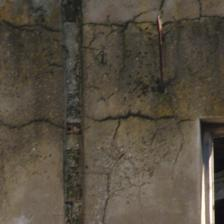Crack: (0, 79, 74, 142), (40, 18, 152, 50), (114, 44, 174, 80), (9, 0, 34, 50), (45, 62, 113, 80)
